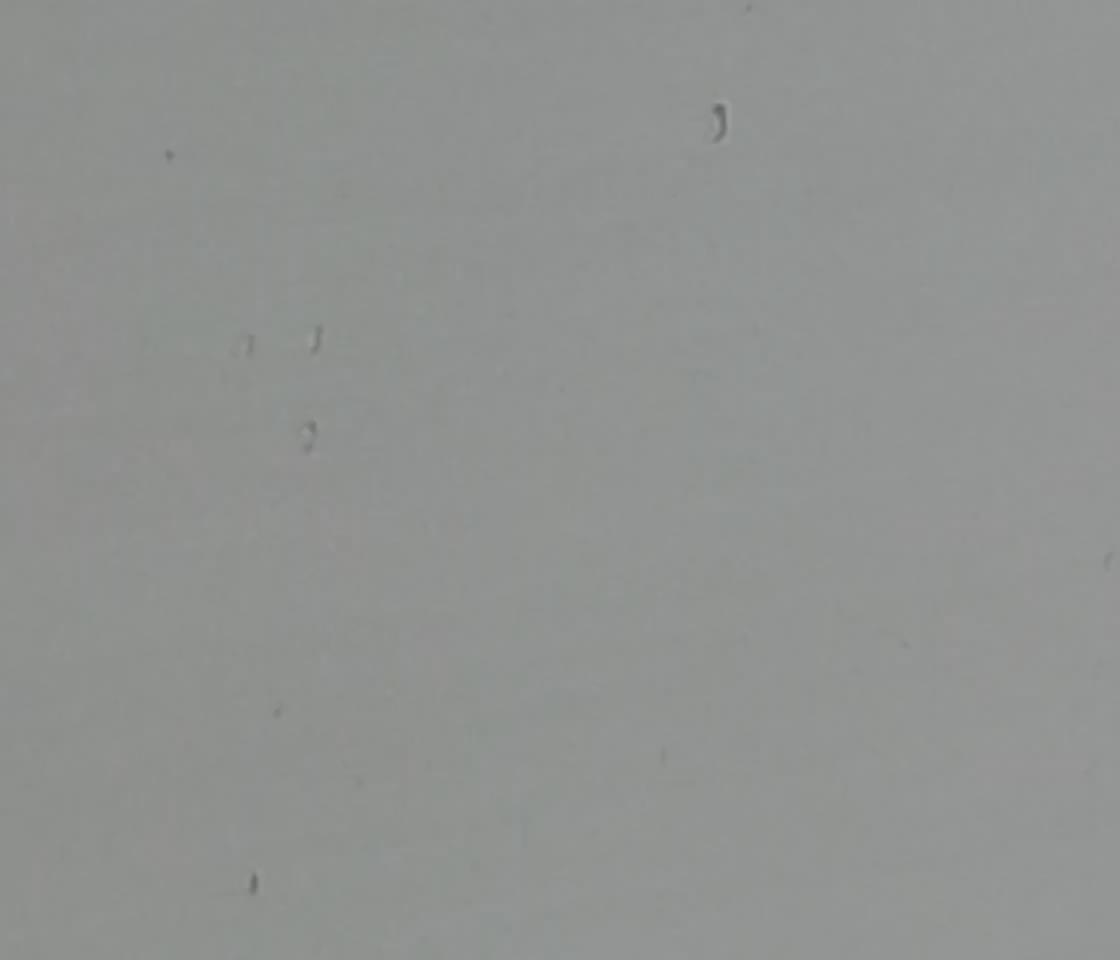scratch: (704, 88, 737, 154)
